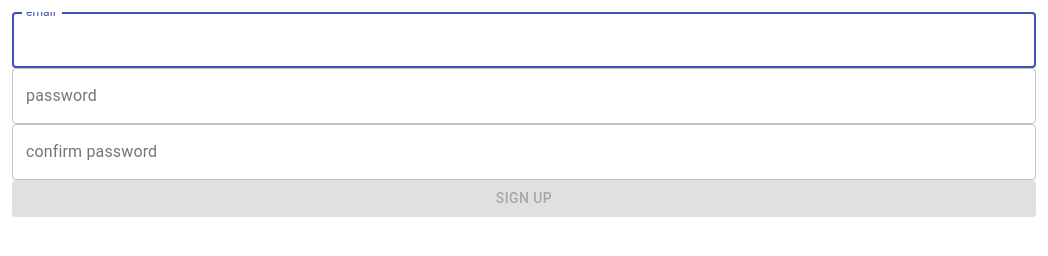
Test: if passwords do not match, form warns user that passwords do not match.
This screenshot has width=1048, height=256.
Type "example@example.com" into the field labelled "email" at (524, 40), box [12,12,1036,68]
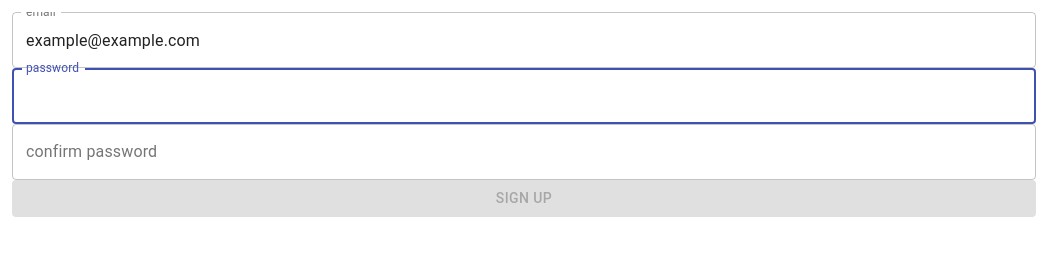
Type "password" into the password field labelled "password" at (524, 96), box [12,68,1036,124]
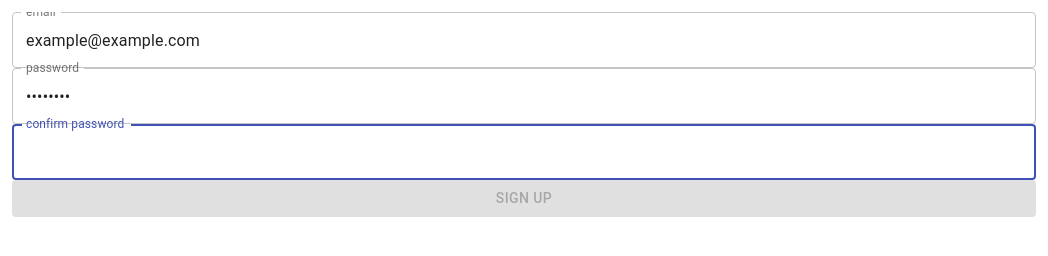
Type "incorrectPassword" into the password field labelled "confirm password" at (524, 152), box [12,124,1036,180]
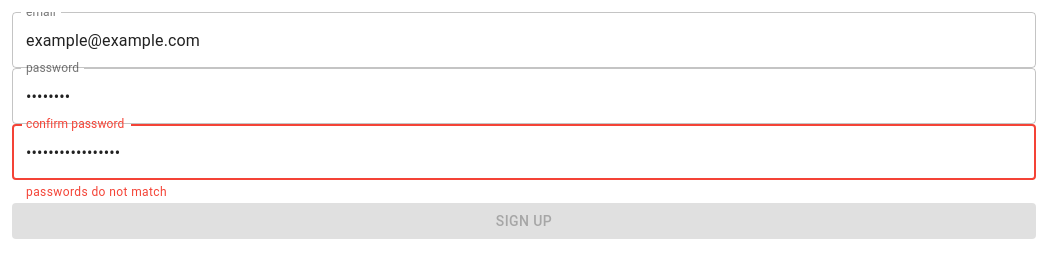
expect the text "passwords do not match" is shown: met, box [26,185,167,199]
